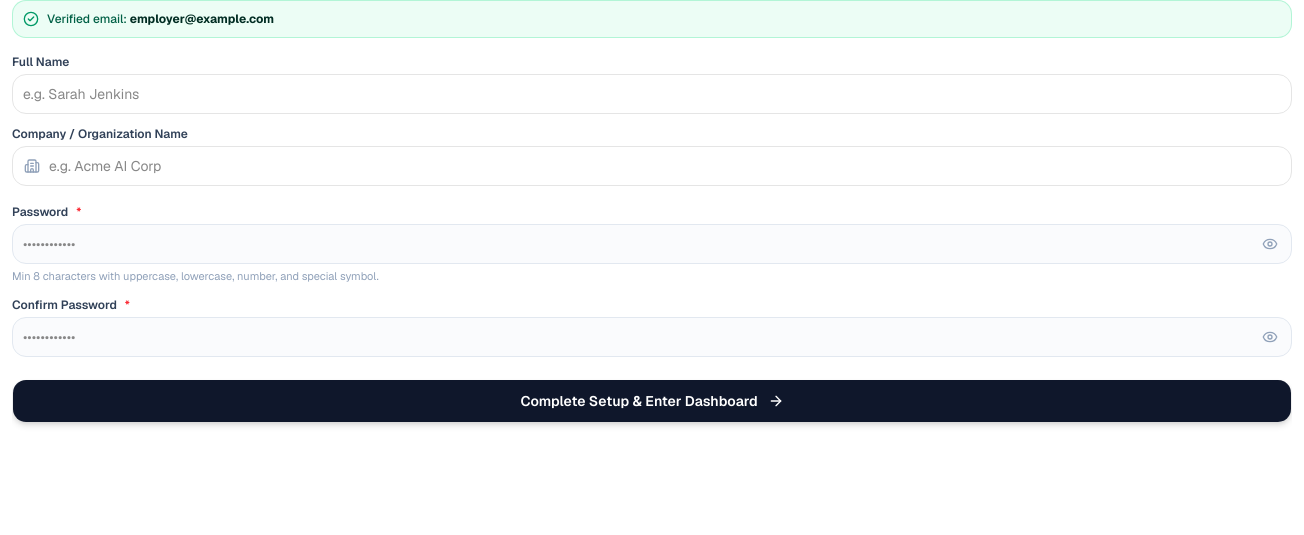
OnboardingProfileForm › renders existing account alert and login link when employer account is duplicate
This screenshot has width=1304, height=535.
Type "Jane Doe" into the field labelled "Full Name".
click(652, 94); type("Jane Doe")  # box left=12, top=74, right=1292, bottom=114
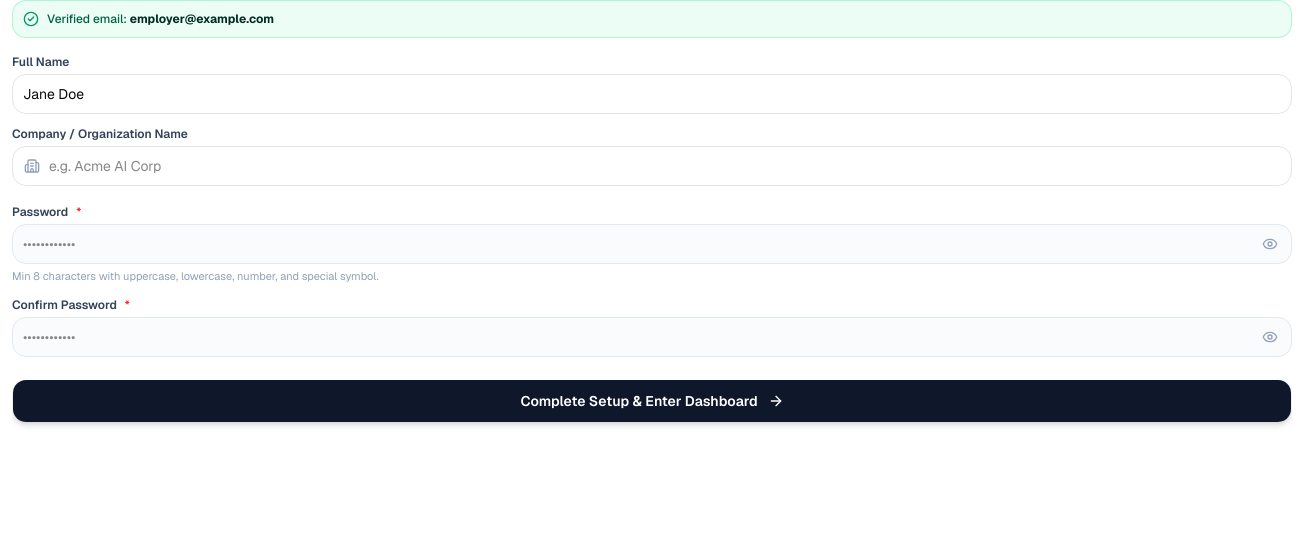
Type "Unique Company" into the field labelled "Company / Organization Name".
click(652, 166); type("Unique Company")  # box left=12, top=146, right=1292, bottom=186
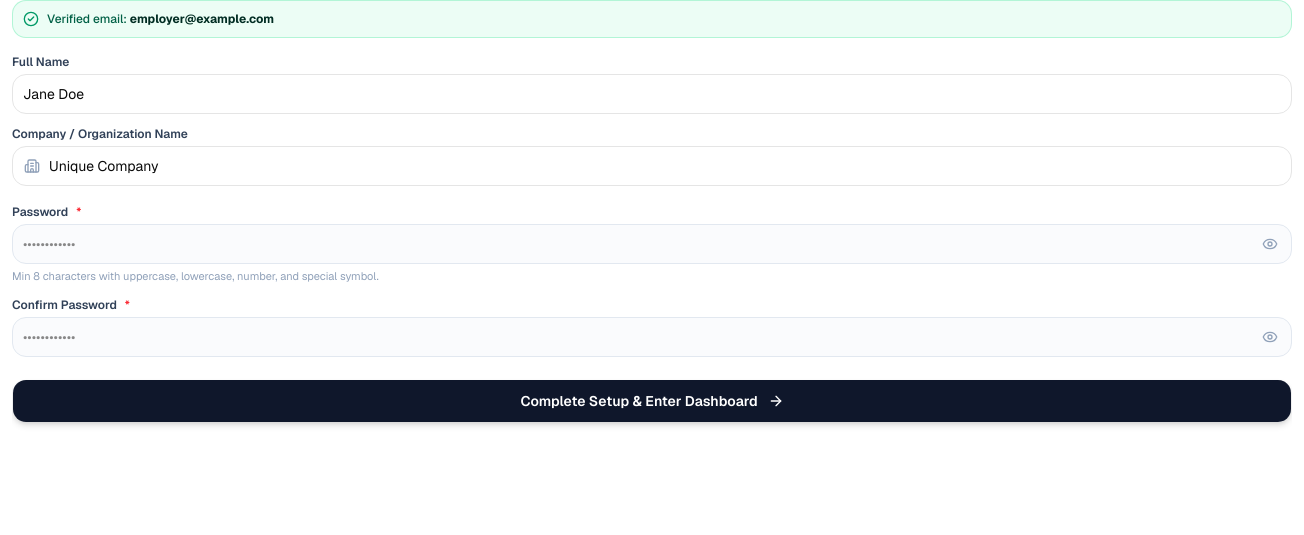
Type "StrongP@ss123!" into the password field labelled "Password *".
click(652, 244); type("StrongP@ss123!")  # box left=12, top=224, right=1292, bottom=264
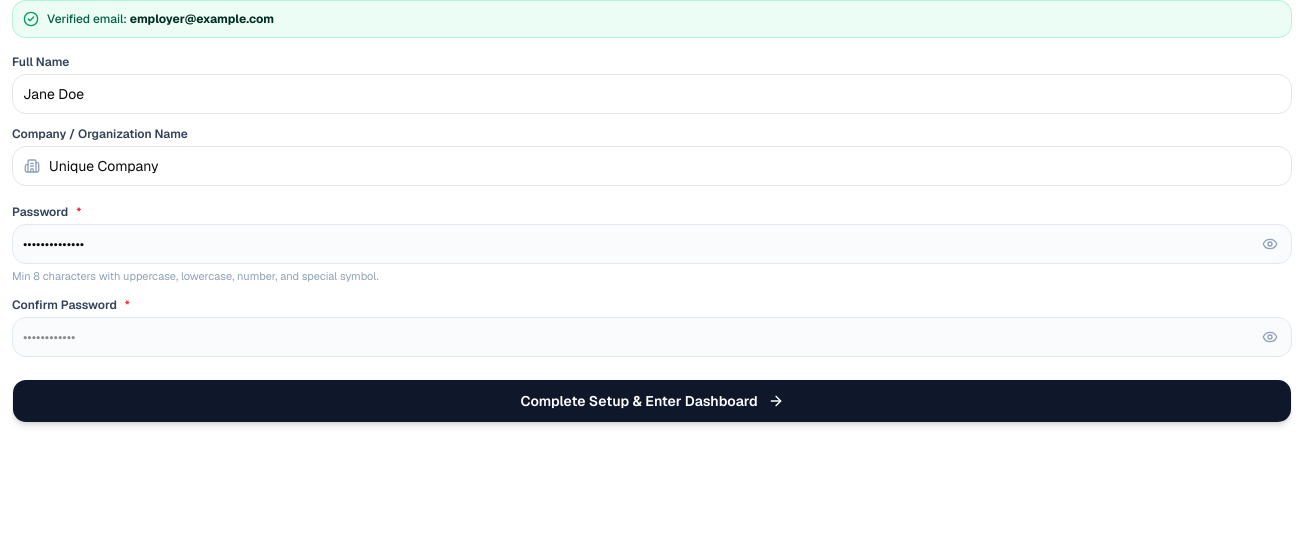
Type "StrongP@ss123!" into the password field labelled "Confirm Password *".
click(652, 336); type("StrongP@ss123!")  # box left=12, top=316, right=1292, bottom=356
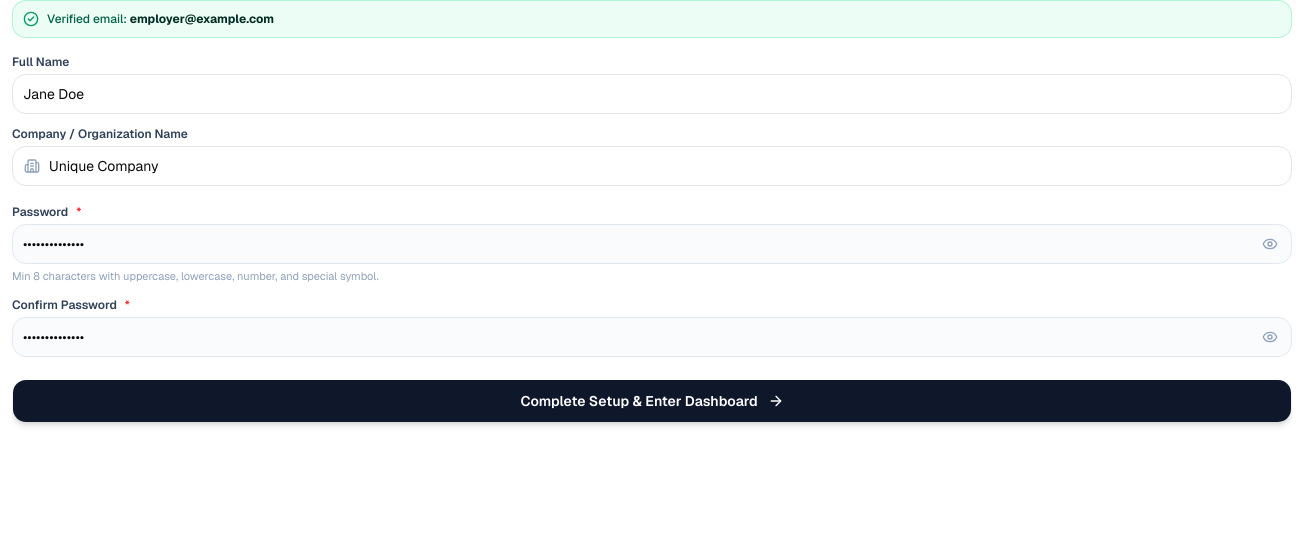
Click the button "Complete Setup & Enter Dashboard".
click(652, 400)  # box left=12, top=378, right=1292, bottom=422
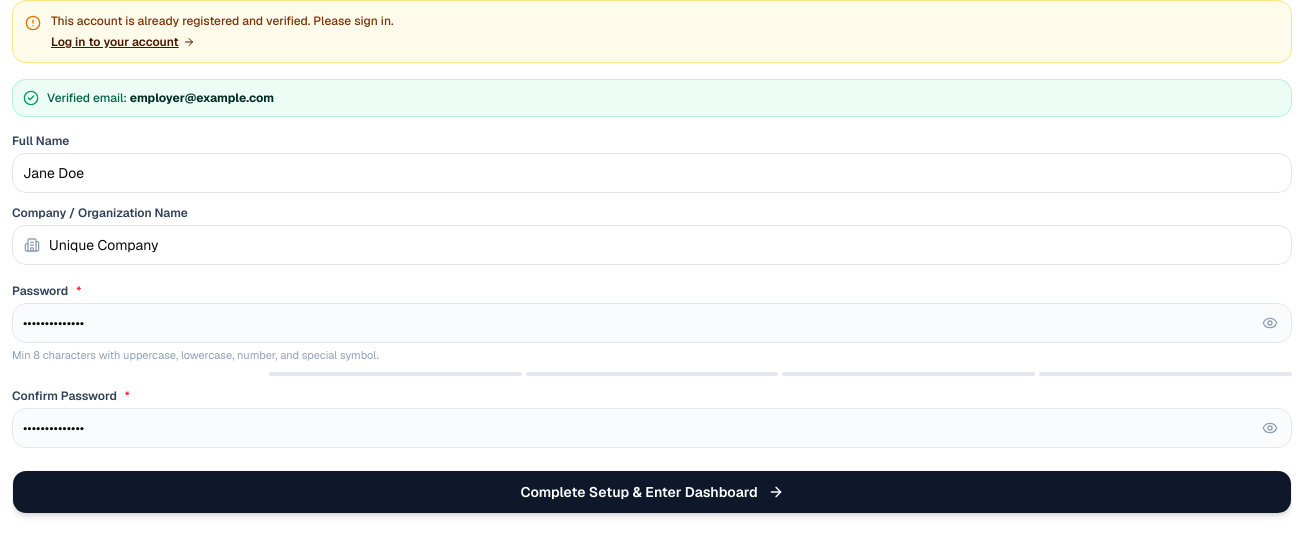
Result: the message shows "This account is already registered and verified" at left=51, top=13, right=394, bottom=29
Result: the link "Log in to your account" is shown at left=51, top=34, right=195, bottom=50
